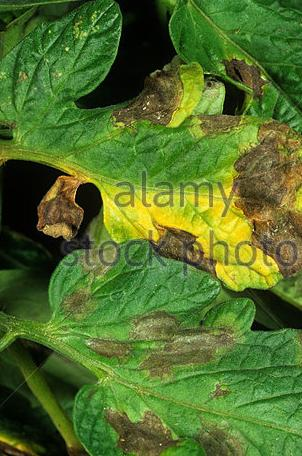Tomato leaf late blight: (0, 9, 302, 293), (19, 238, 302, 456)
